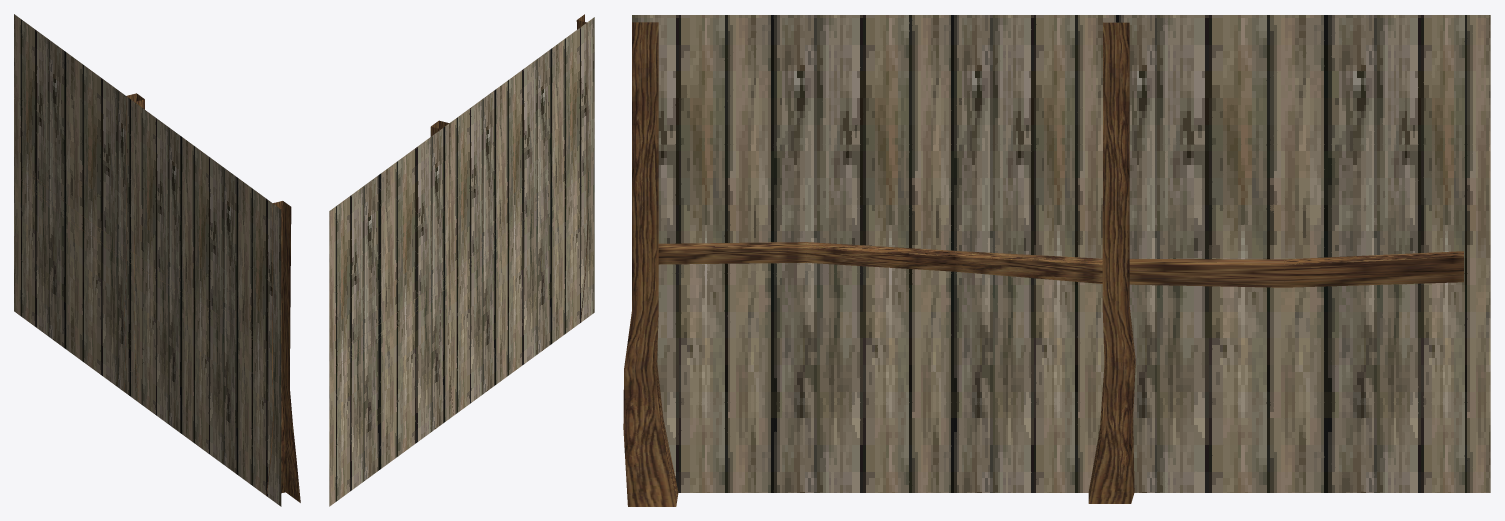
The model's file is LAKETOWN_PUB_PS_PUB_SIDEWALL938__GX.fbx.
3 views of the same model, side by side, from view 1: azimuth 30°, elevation 25°; view 2: azimuth 150°, elevation 25°; view 3: azimuth 270°, elevation 25° (orthographic). The views are drawn at different scales.
Parts seen in each view (by area): view 1: LAKETOWN_PUB_PS_PUB_SIDEWALL938__GX; view 2: LAKETOWN_PUB_PS_PUB_SIDEWALL938__GX; view 3: LAKETOWN_PUB_PS_PUB_SIDEWALL938__GX.
Boxes of the visible parts, x1=… form: LAKETOWN_PUB_PS_PUB_SIDEWALL938__GX: x1=14, y1=14, x2=300, y2=506; LAKETOWN_PUB_PS_PUB_SIDEWALL938__GX: x1=329, y1=14, x2=594, y2=506; LAKETOWN_PUB_PS_PUB_SIDEWALL938__GX: x1=623, y1=15, x2=1490, y2=506.
Bounding box in the file's own units: 3487 × 52810 × 86746.
Materials: 2 (2 with a texture image).
